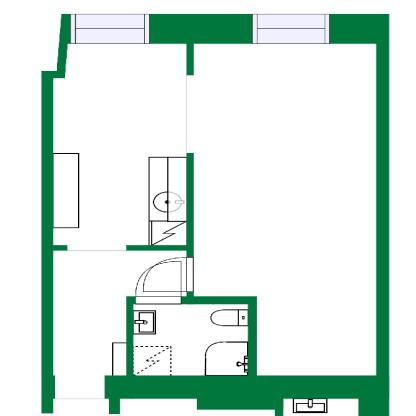door: (136, 253, 181, 312), (141, 256, 193, 290)
window: (67, 14, 148, 44), (250, 13, 330, 42)
zone: (49, 45, 379, 386), (129, 300, 247, 374)
